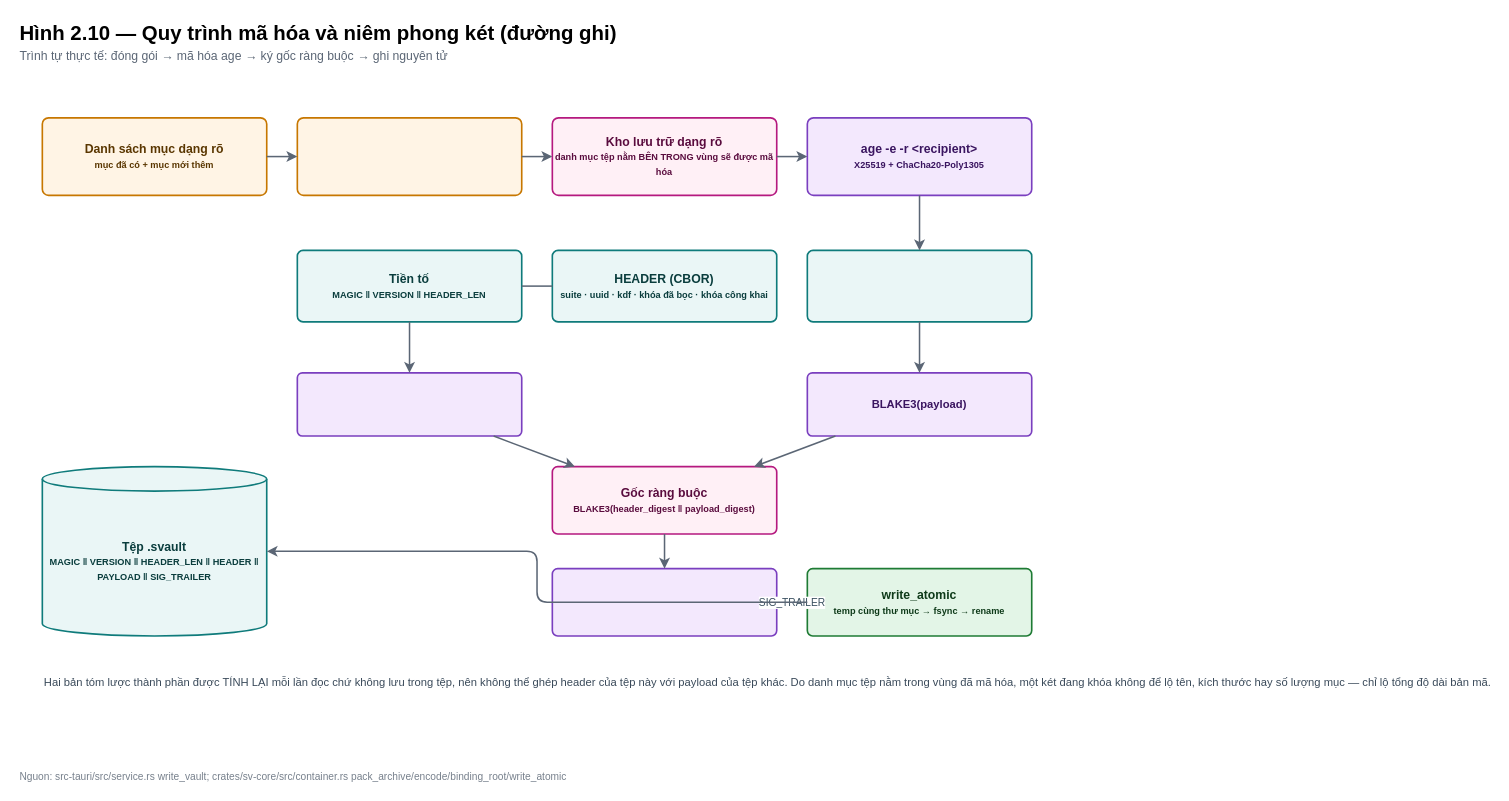
Some shapes in this 1509 by 801 pixel diagram are drawn without their labels. Here are the shapes that lost their labels. From the top down, the centre of each, then its label:
point 409,156: pack_archive DIR_LEN ‖ CBOR(ItemDirectory) ‖ byte nội dung
point 919,285: PAYLOAD một khối mã age duy nhất
point 409,403: BLAKE3(tiền tố ‖ header)
point 664,601: Ký minisign (Ed25519) tiền băm BLAKE2b-512
